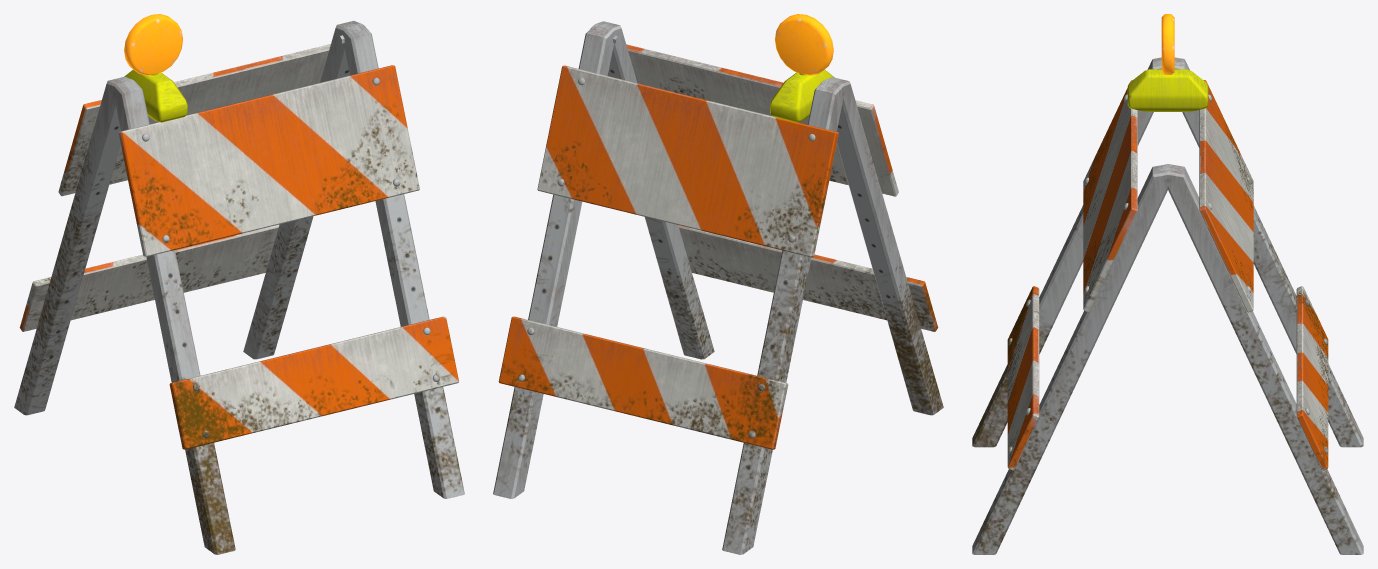
Rendered from barricade.glb.
The picture shows the model from 3 angles, left to right: view 1: azimuth 30°, elevation 25°; view 2: azimuth 150°, elevation 25°; view 3: azimuth 270°, elevation 25°; orthographic projection. The views are drawn at different scales.
Parts seen in each view (by area): view 1: polySurface6; view 2: polySurface6; view 3: polySurface6.
Boxes of the visible parts, box(x1,y1,x2,y2) form: polySurface6: box(14, 14, 464, 554); polySurface6: box(493, 14, 943, 554); polySurface6: box(972, 14, 1363, 554).
Bounding box in the file's own units: 1.26 × 2 × 1.62.
Materials: 1 (1 with a texture image).
